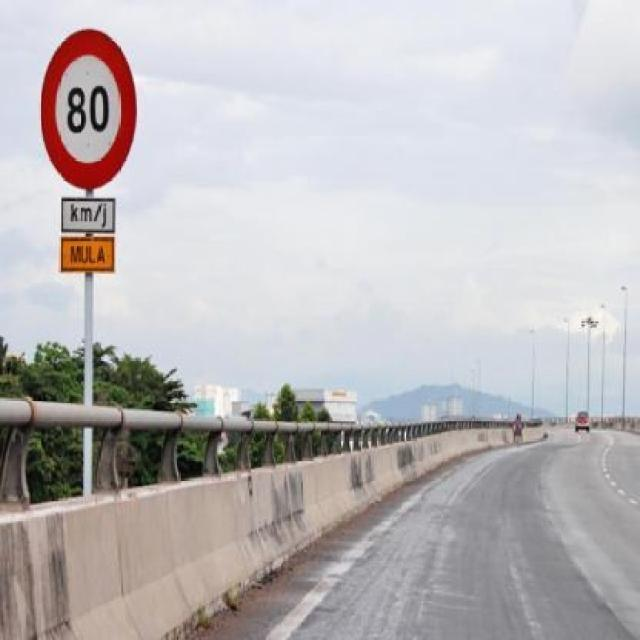forb_speed_over_80: (41, 32, 133, 189)
